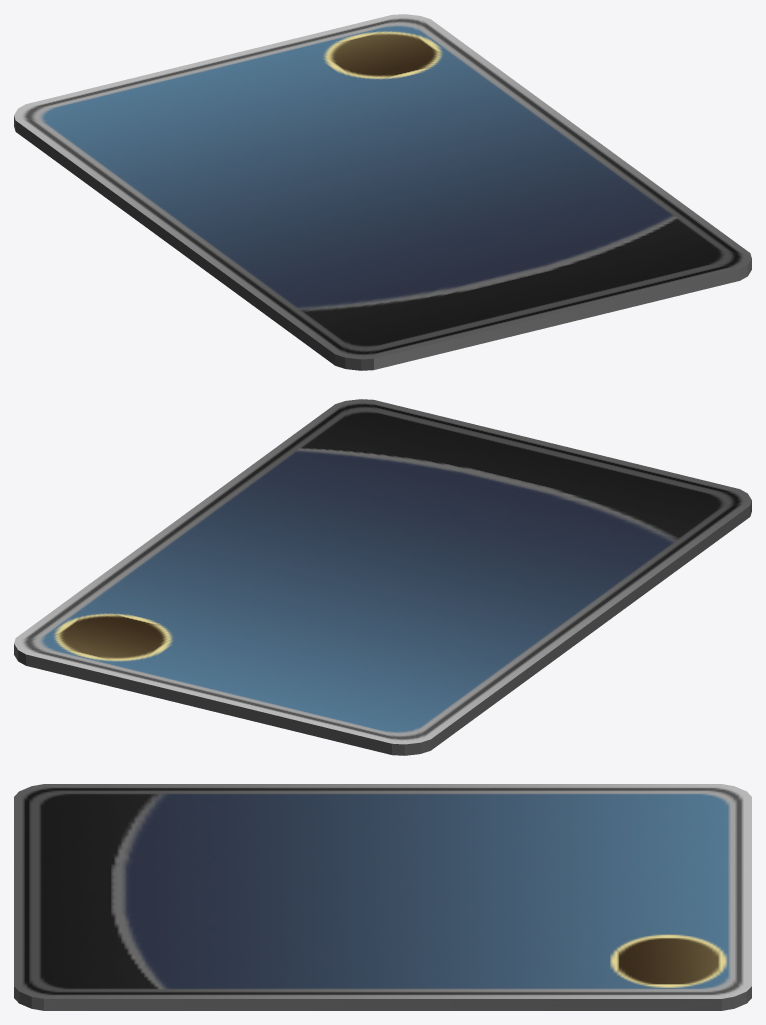
The model's file is chess.fbx.
3 views of the same model, one above another, from view 1: azimuth 30°, elevation 25°; view 2: azimuth 150°, elevation 25°; view 3: azimuth 270°, elevation 25° (orthographic). The views are drawn at different scales.
Visible parts, largest first — view 1: chess; view 2: chess; view 3: chess.
Boxes of the visible parts, left/top/right/bottom form: chess: left=14, top=14, right=751, bottom=370; chess: left=14, top=399, right=751, bottom=755; chess: left=14, top=784, right=751, bottom=1010.
Bounding box in the file's own units: 682 × 17.84 × 989.
1 material, 1 textured.
